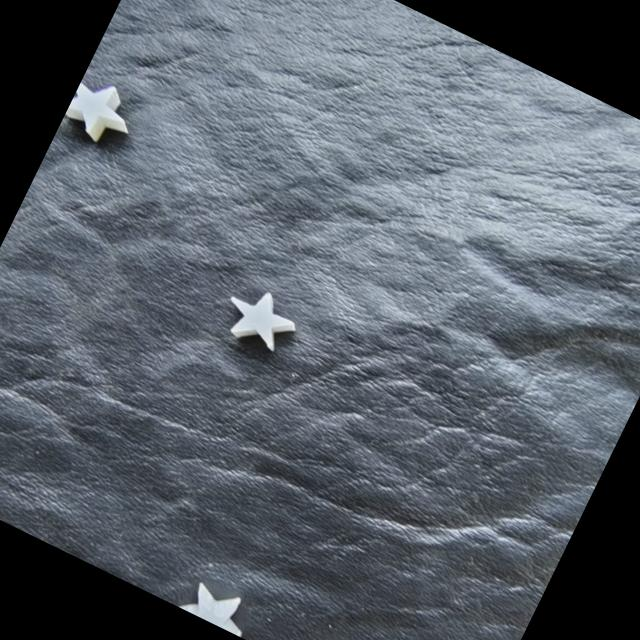estrellas: (227, 291, 290, 344)
